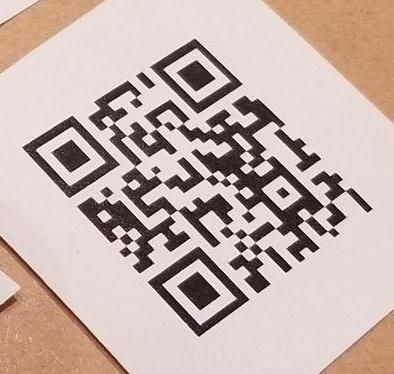qrcode: (21, 38, 374, 338)
